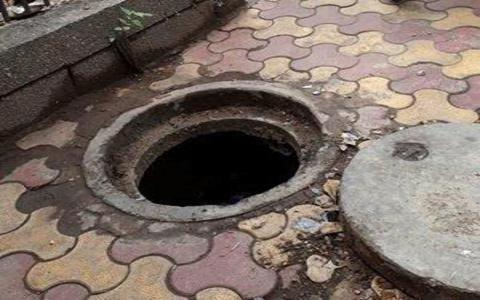open manhole: (81, 68, 321, 213)
